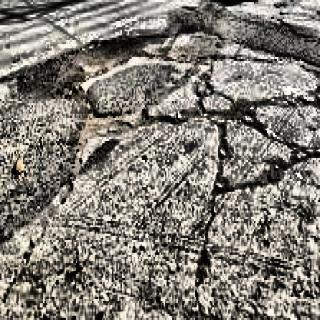alligator-crack: (108, 27, 320, 190)
crack: (195, 119, 229, 320)
